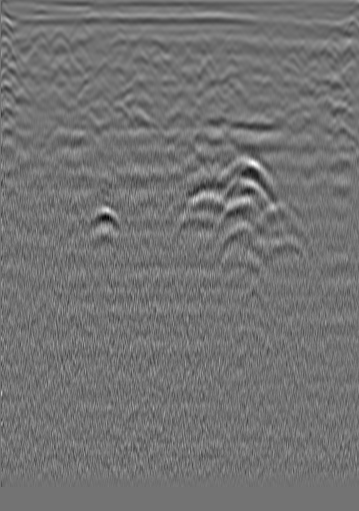가스: (80, 203, 126, 235)
상수: (320, 19, 340, 39)
오수: (32, 29, 52, 49)
우수: (181, 31, 201, 51)
